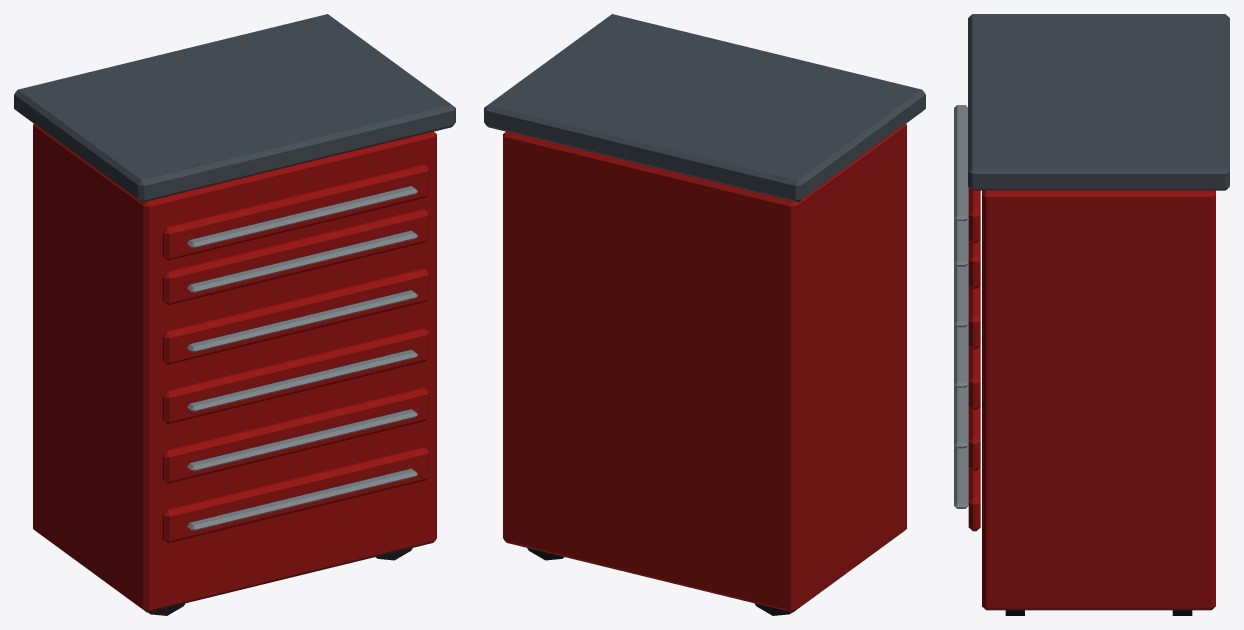
The model's file is ToolTrolley.fbx.
The picture shows the model from 3 angles, left to right: view 1: azimuth 30°, elevation 25°; view 2: azimuth 150°, elevation 25°; view 3: azimuth 270°, elevation 25°; orthographic projection.
Parts seen in each view (by area): view 1: ToolTrolley; view 2: ToolTrolley; view 3: ToolTrolley.
Boxes of the visible parts, x1,y1,x2,y2 form: ToolTrolley: [14, 14, 455, 615]; ToolTrolley: [484, 14, 925, 615]; ToolTrolley: [954, 14, 1229, 615].
Bounding box in the file's own units: 67 × 92.25 × 49.5.
Materials: 1 (1 with a texture image).
